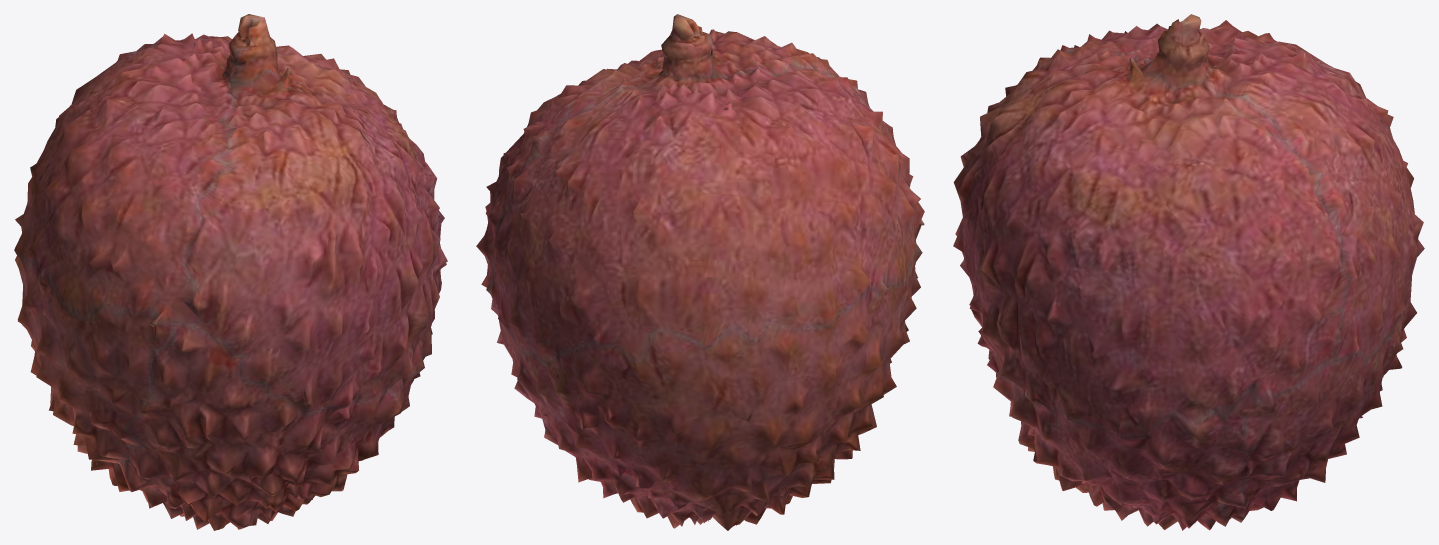
3 renders of one model, left to right at view 1: azimuth 30°, elevation 25°; view 2: azimuth 150°, elevation 25°; view 3: azimuth 270°, elevation 25°, orthographic. The views are drawn at different scales.
Visible parts, largest first — view 1: food_lychee_01; view 2: food_lychee_01; view 3: food_lychee_01.
Part boxes in pixels (x1,y1,x2,y2): food_lychee_01: (14,14,447,530); food_lychee_01: (476,14,924,530); food_lychee_01: (953,14,1424,530).
Bounding box in the file's own units: 0.0409 × 0.0506 × 0.042.
Materials: 1 (1 with a texture image).
